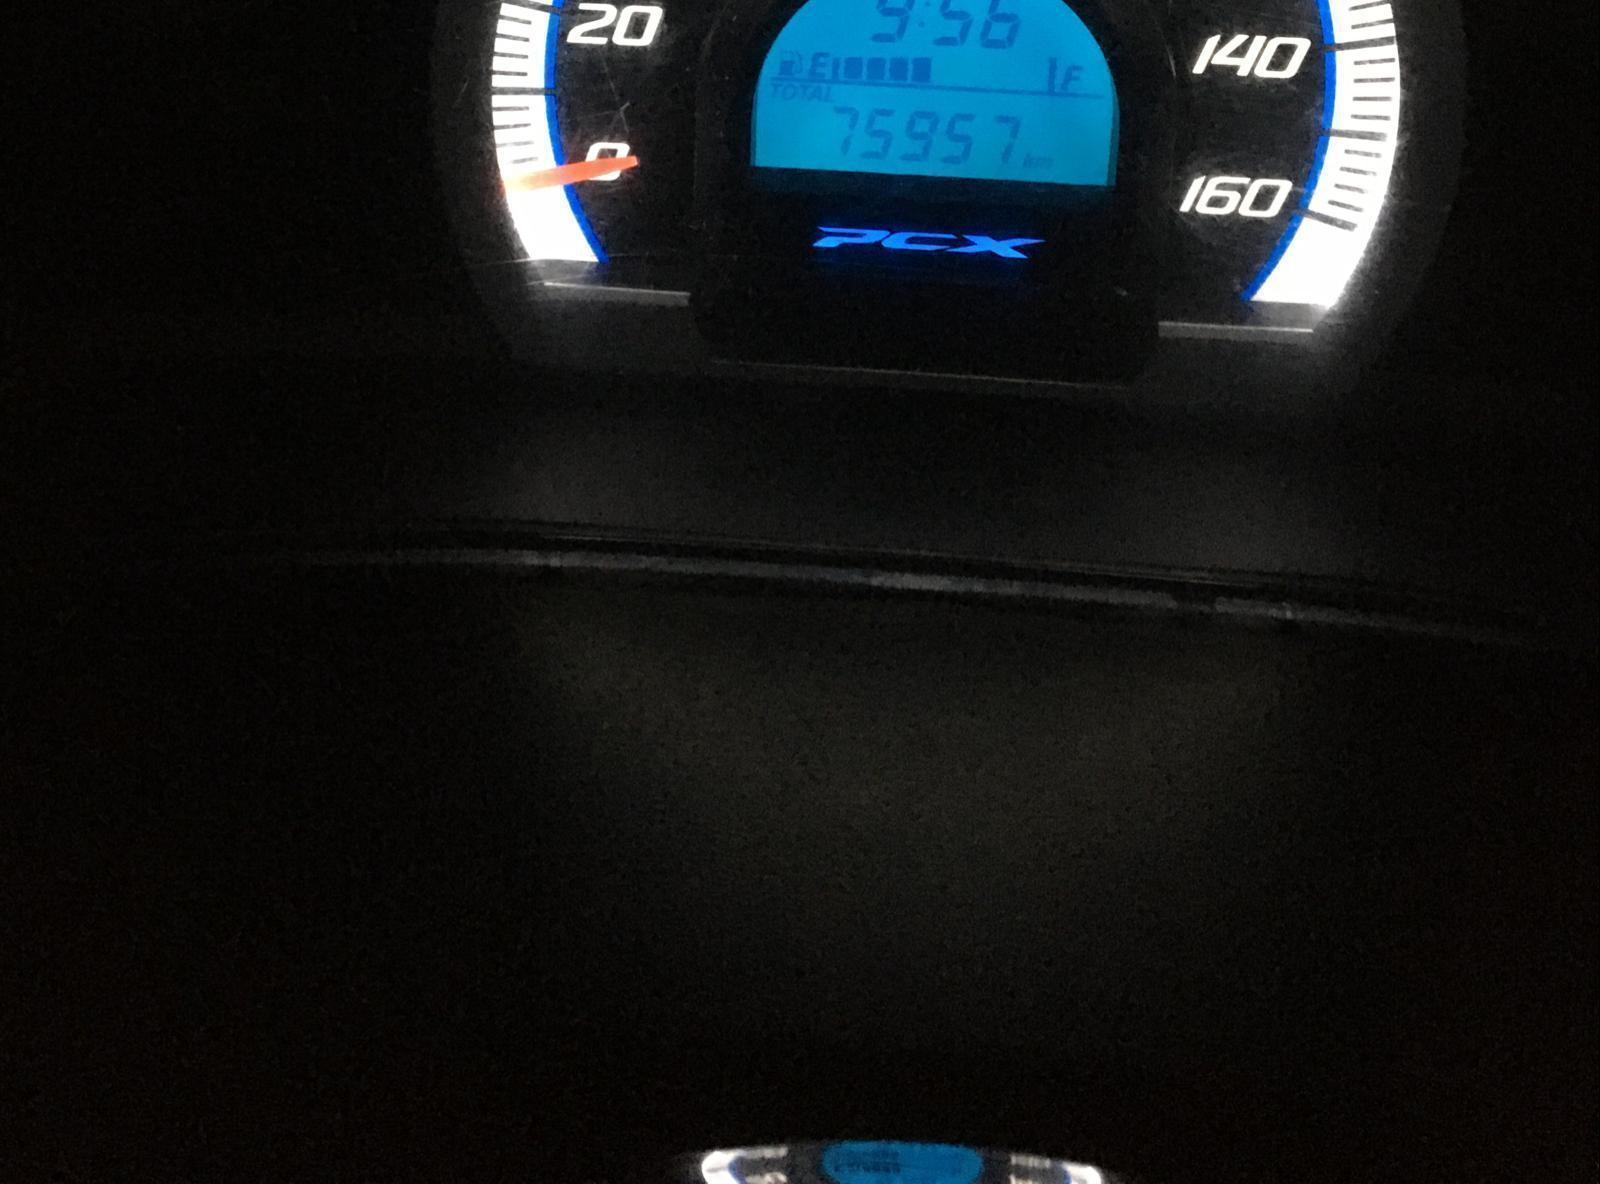5: (859, 104, 895, 162), (936, 0, 976, 49), (945, 109, 978, 167)
6: (980, 0, 1024, 53)
7: (991, 112, 1019, 164), (830, 104, 859, 155)
9: (898, 107, 939, 162), (871, 1, 909, 45)
X: (1059, 58, 1087, 92), (804, 47, 833, 77), (919, 0, 934, 29), (1036, 152, 1052, 170), (824, 85, 839, 104), (782, 82, 797, 101), (798, 81, 811, 102), (812, 83, 824, 104), (770, 80, 782, 99), (1023, 150, 1036, 170)
odometer: (748, 0, 1135, 192)
